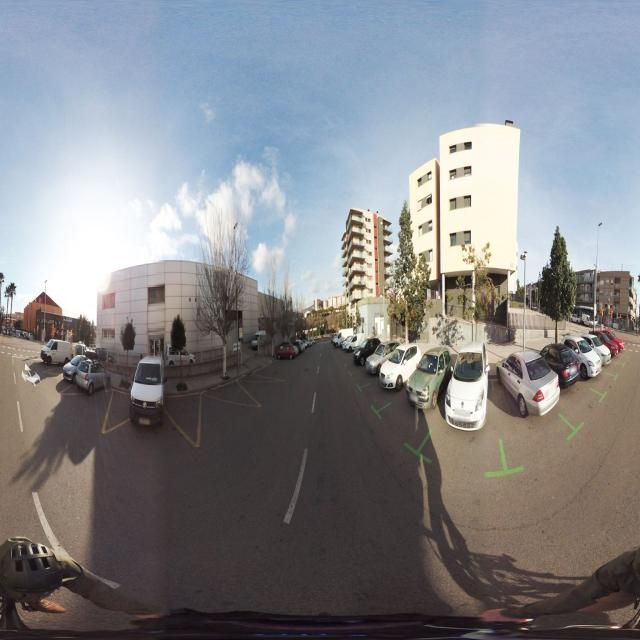forb_stopping: (239, 318, 243, 328)
